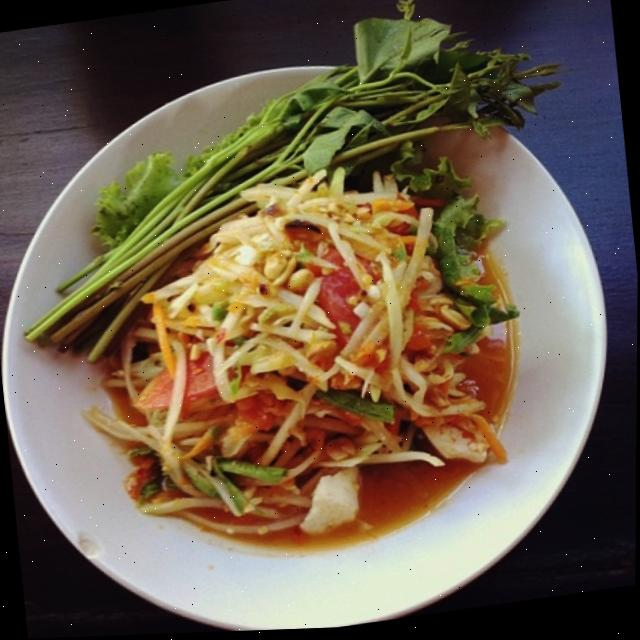蔬菜料理: (18, 20, 556, 592)
